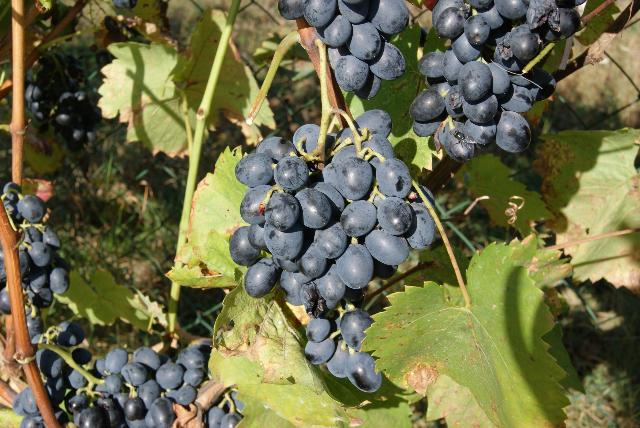grapes: (230, 110, 436, 392), (410, 0, 580, 162), (36, 321, 212, 428), (279, 0, 409, 99), (1, 182, 70, 340), (200, 390, 244, 428), (12, 388, 44, 428)
